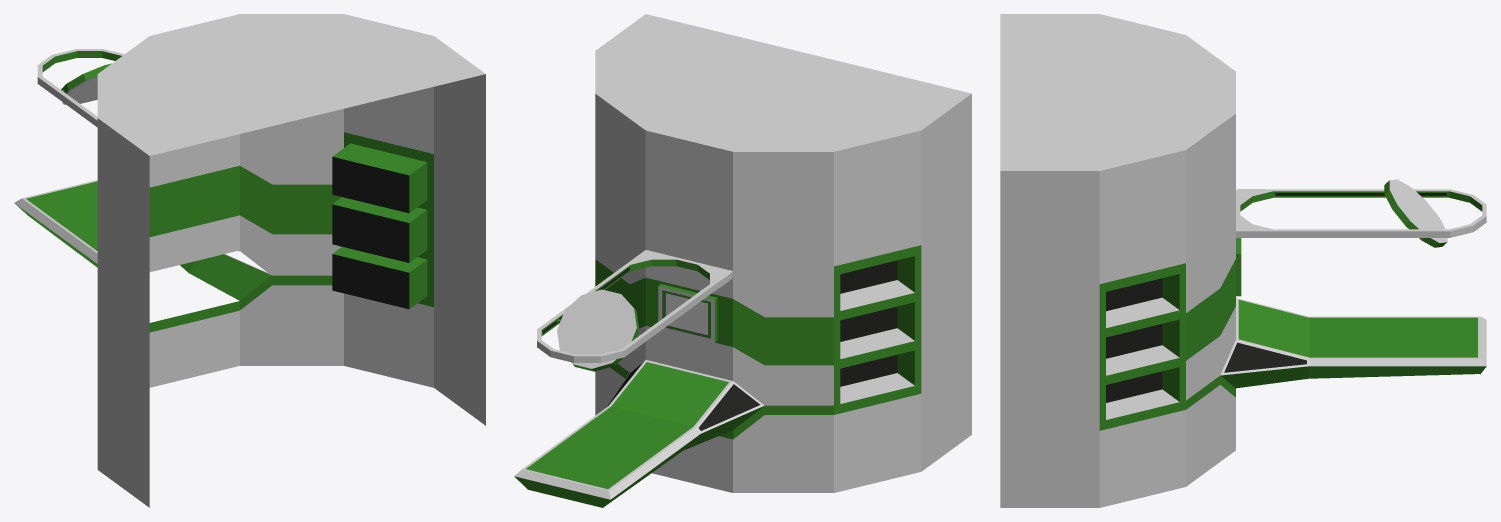
File: Surgery_Table.fbx
The picture shows the model from 3 angles, left to right: view 1: azimuth 30°, elevation 25°; view 2: azimuth 150°, elevation 25°; view 3: azimuth 270°, elevation 25°; orthographic projection. The views are drawn at different scales.
Parts seen in each view (by area): view 1: Surgery_Table; view 2: Surgery_Table; view 3: Surgery_Table.
Boxes of the visible parts, left/top/right/bottom form: Surgery_Table: left=14, top=14, right=485, bottom=507; Surgery_Table: left=514, top=14, right=971, bottom=507; Surgery_Table: left=1000, top=14, right=1486, bottom=507.
Size of the model in its own units: 5 by 6.54 by 5.
